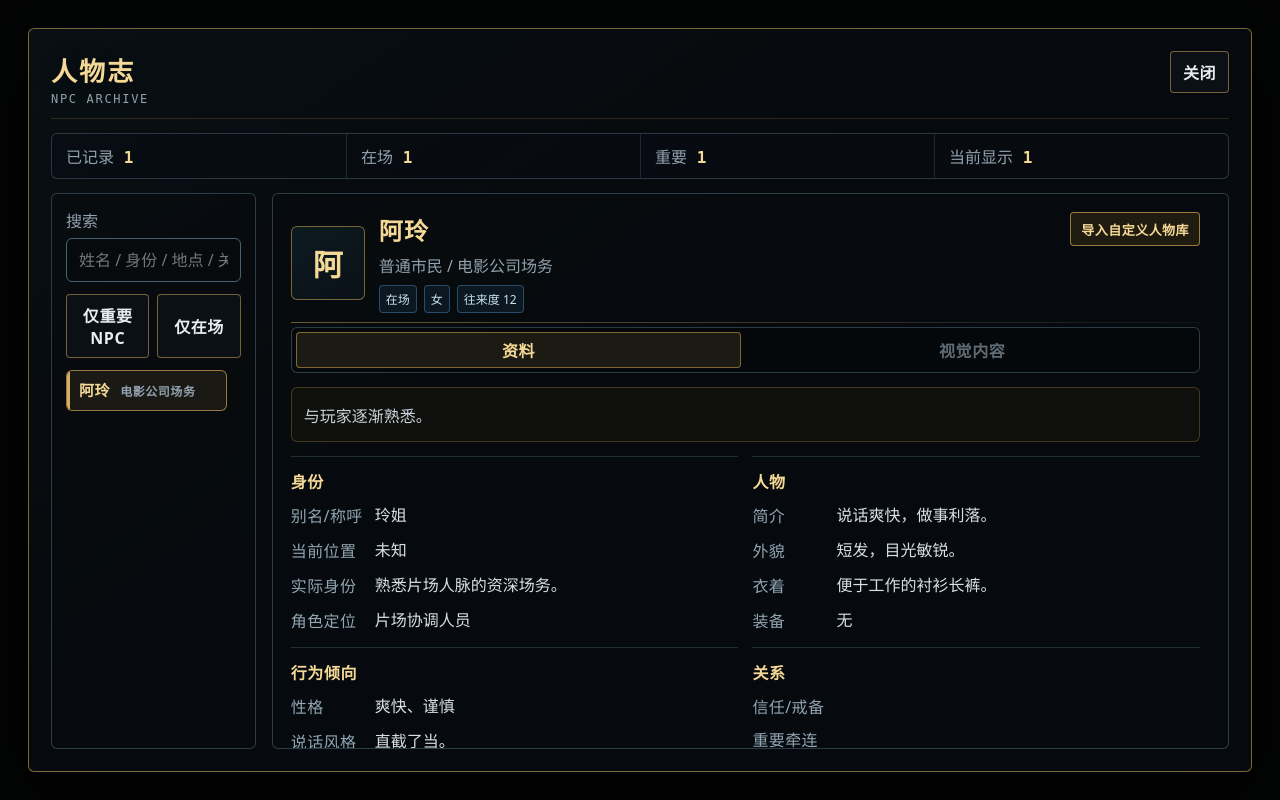
Test: CharacterArchiveModal › copies an encountered NPC into the custom character library after confirmation
Click the button "导入自定义人物库".
click(1135, 229)  # box [1070,212,1200,246]
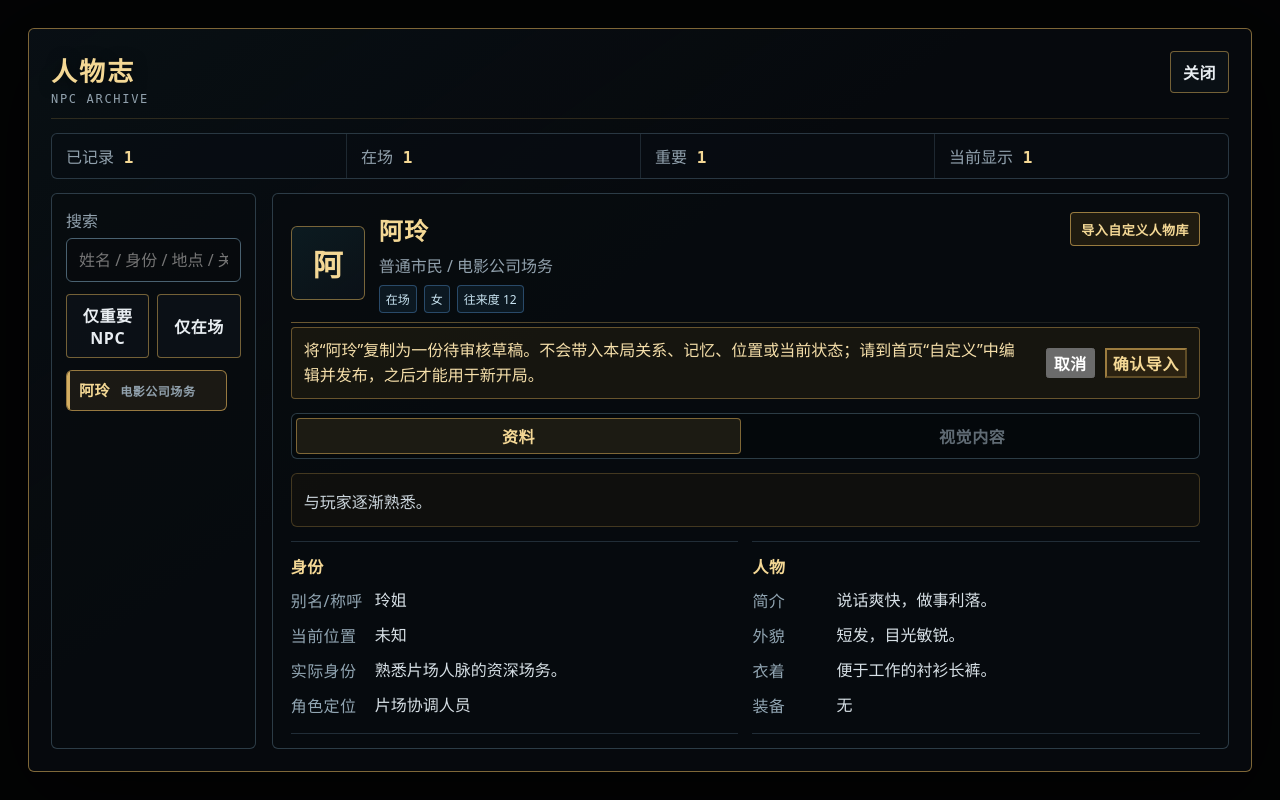
Now the text "不会带入本局关系、记忆、位置或当前状态" is shown, box [304,339,1015,386]
Click the button "确认导入".
click(1146, 363)  # box [1105,348,1187,378]
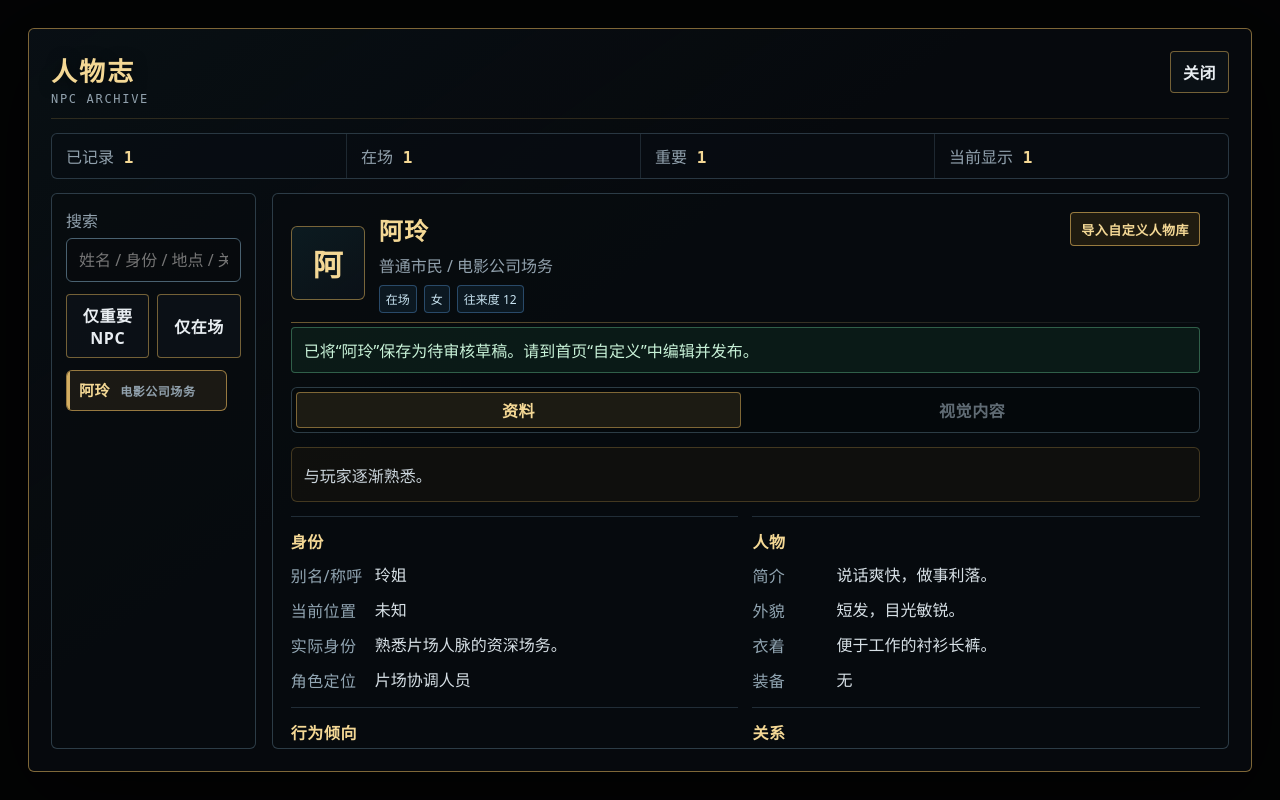
Now the message shows "已将“阿玲”保存为待审核草稿", box [304,340,759,362]
Click the button "导入自定义人物库".
click(1135, 229)  # box [1070,212,1200,246]
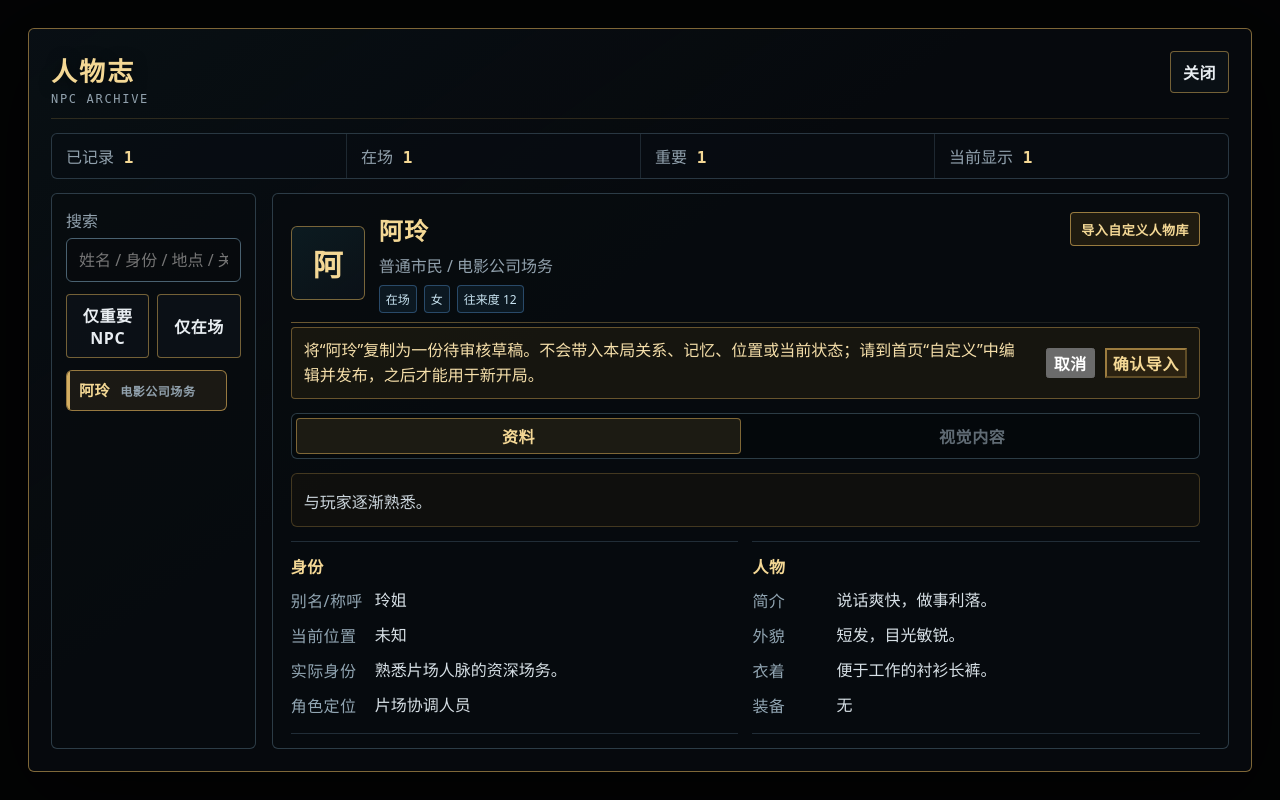
Click the button "确认导入".
click(1146, 363)  # box [1105,348,1187,378]
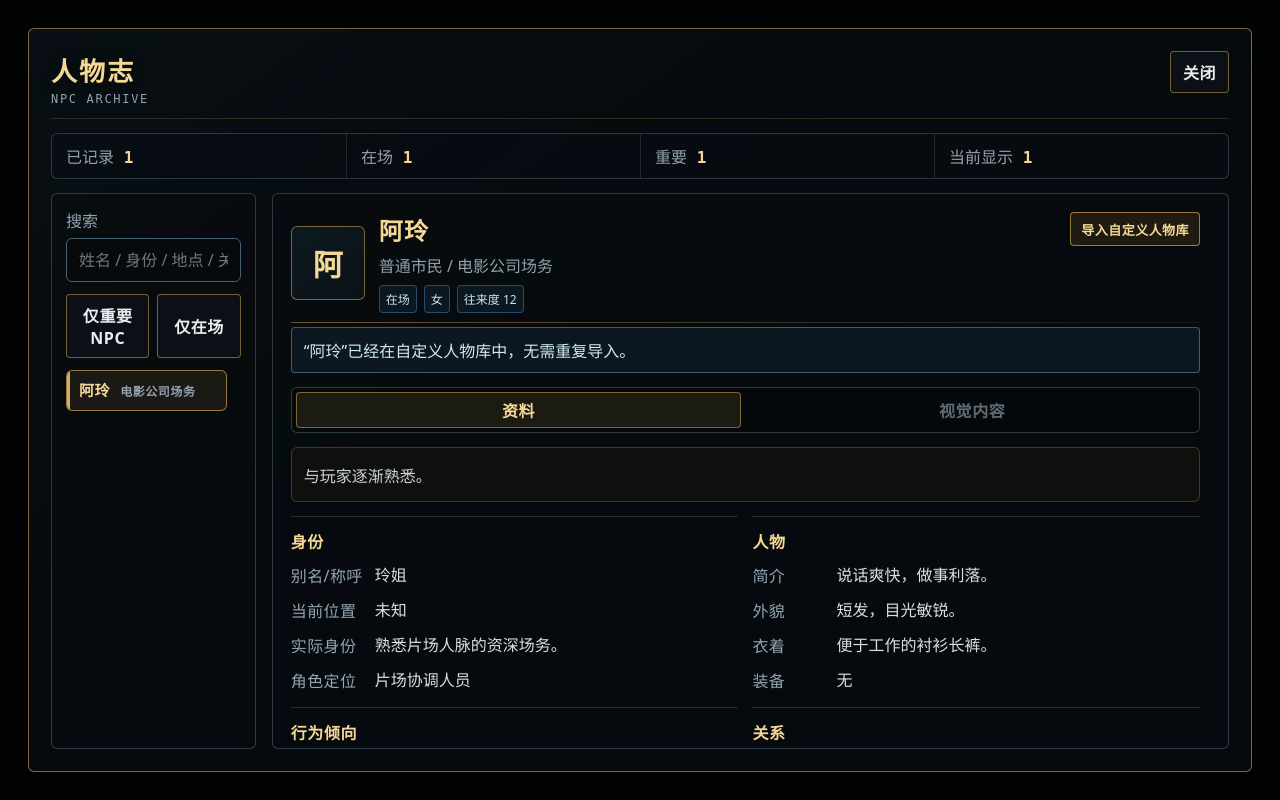
Now the message shows "已经在自定义人物库中", box [304,340,635,362]
